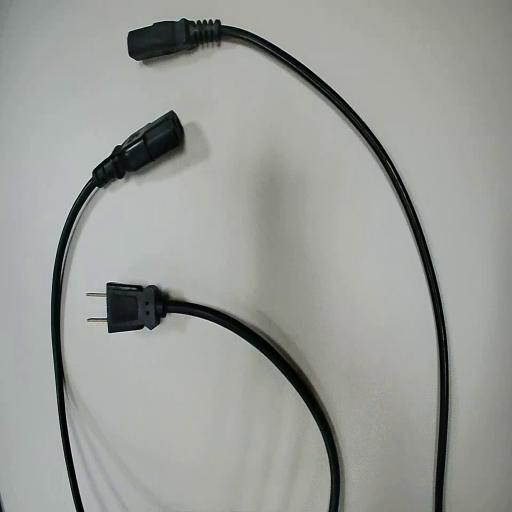wire: (128, 20, 448, 511), (107, 284, 340, 511), (52, 112, 183, 511)
